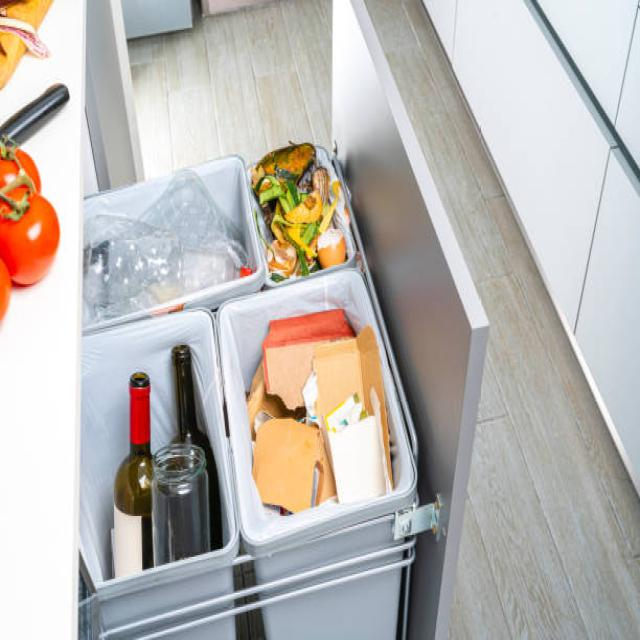cardboard: (245, 292, 402, 478)
glass: (89, 332, 208, 520)
plastic: (91, 194, 241, 270)
